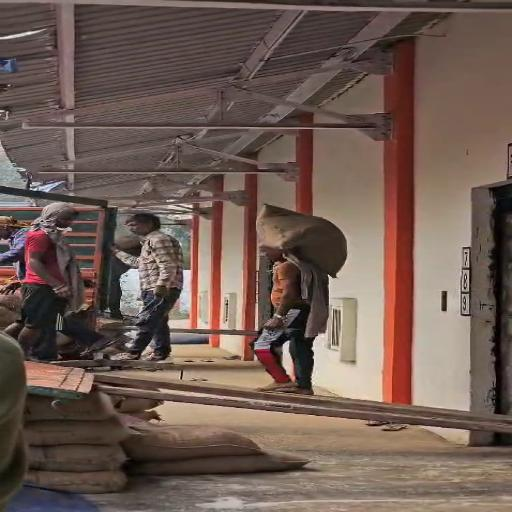bag: (248, 199, 354, 282)
